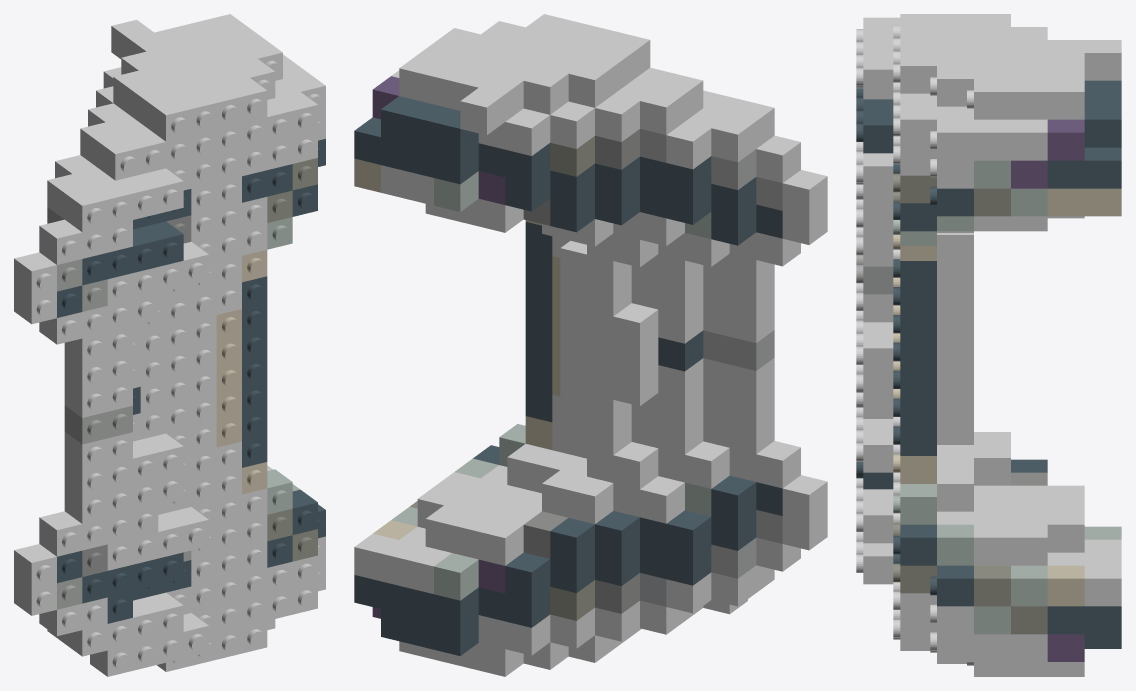
The model's file is full.glb.
3 views of the same model, side by side, from view 1: azimuth 30°, elevation 25°; view 2: azimuth 150°, elevation 25°; view 3: azimuth 270°, elevation 25° (orthographic). The views are drawn at different scales.
Parts seen in each view (by area): view 1: world; view 2: world; view 3: world.
Part boxes in pixels (x1,y1,x2,y2): world: [14, 14, 325, 676]; world: [354, 14, 827, 676]; world: [856, 14, 1121, 676].
Bounding box in the file's own units: 104 × 168 × 69.
